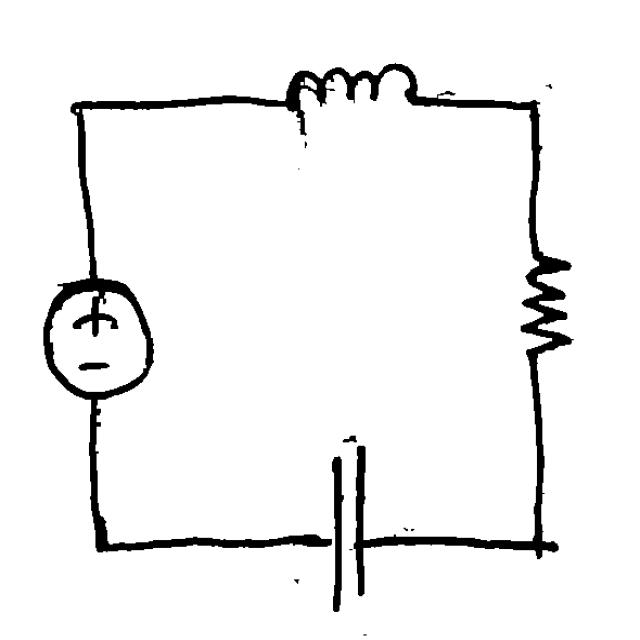capacitor: (305, 429, 391, 620)
dc: (38, 271, 164, 404)
inductor: (274, 46, 427, 136)
resistor: (503, 234, 579, 378)
